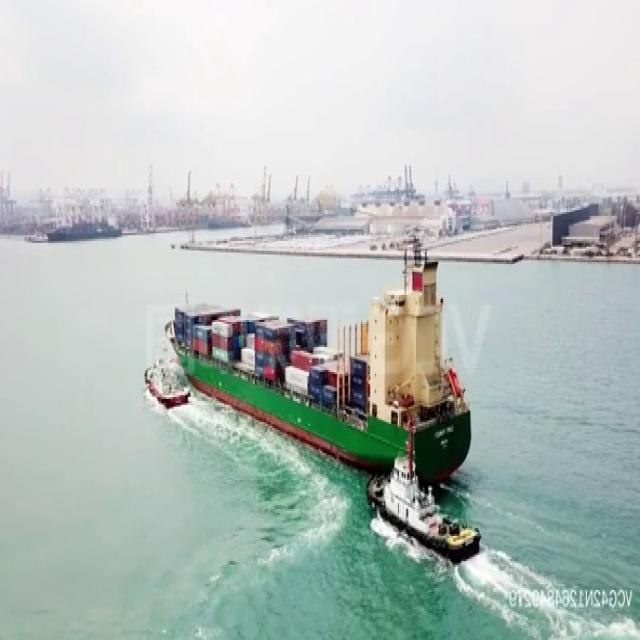cargoship: (169, 241, 478, 462)
houseboat: (370, 453, 481, 566), (143, 352, 191, 408)
